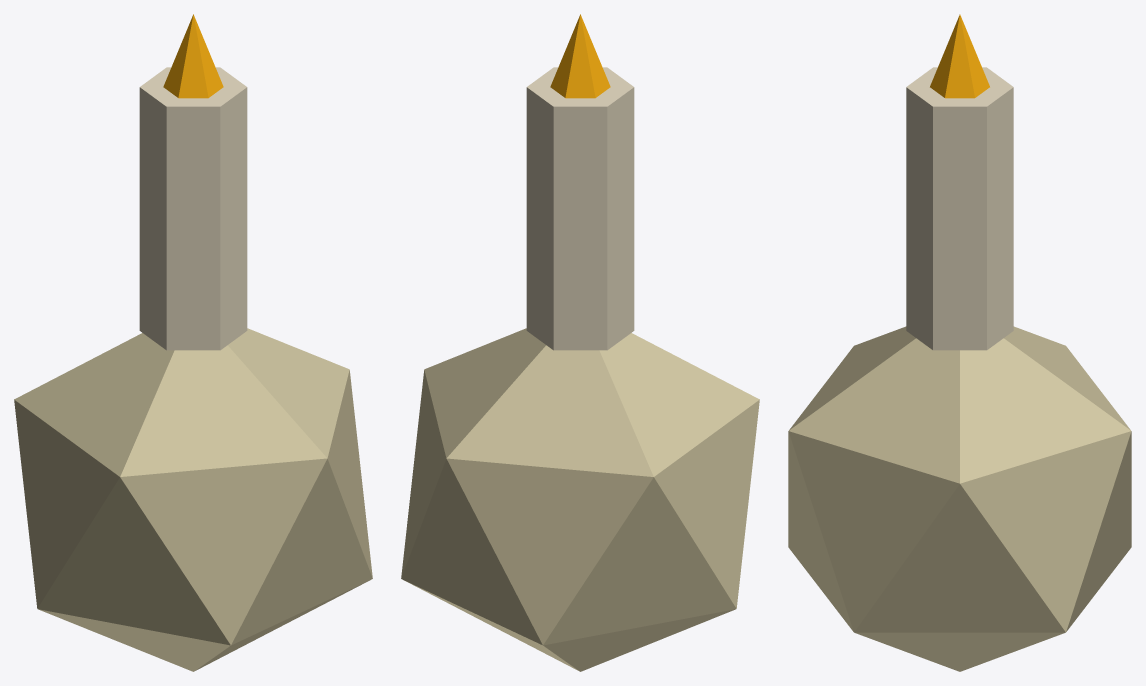
Rendered from candle_skull.obj.
3 renders of one model, left to right at view 1: azimuth 30°, elevation 25°; view 2: azimuth 150°, elevation 25°; view 3: azimuth 270°, elevation 25°, orthographic.
Parts seen in each view (by area): view 1: candle_skull; view 2: candle_skull; view 3: candle_skull.
Part boxes in pixels (x1,y1,x2,y2): candle_skull: (14,14,372,671); candle_skull: (401,14,759,671); candle_skull: (788,14,1131,671).
Bounding box in the file's own units: 0.2683 × 0.54 × 0.2552.
